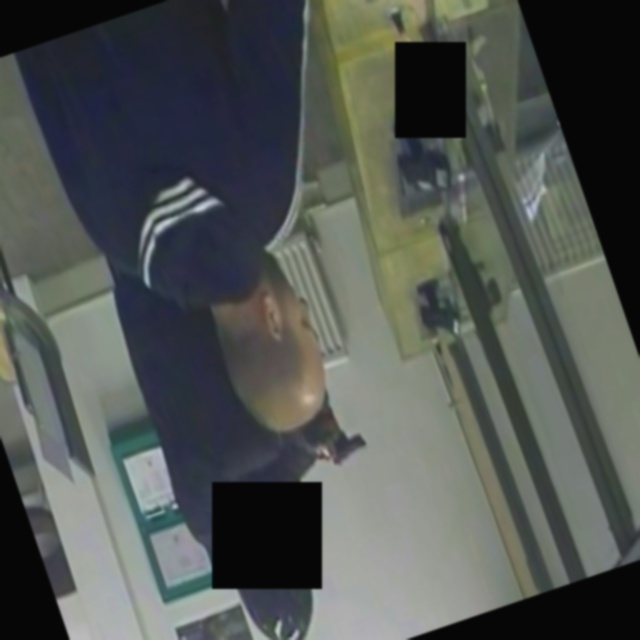gun: (310, 410, 378, 483)
